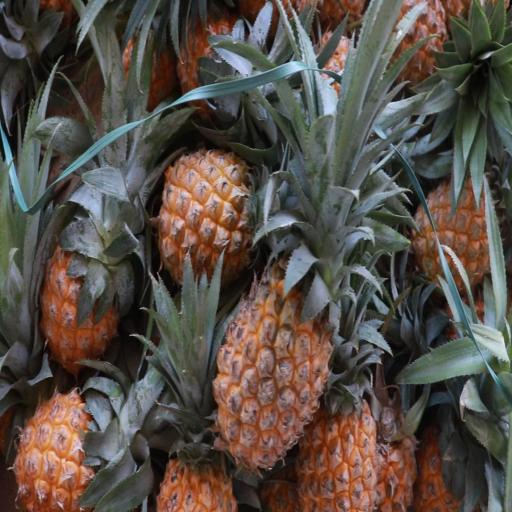Pineapple - v8 v1: (215, 236, 361, 479), (150, 142, 288, 302), (37, 203, 146, 375), (9, 374, 142, 512), (408, 159, 498, 303), (154, 366, 242, 512), (290, 367, 379, 511)
